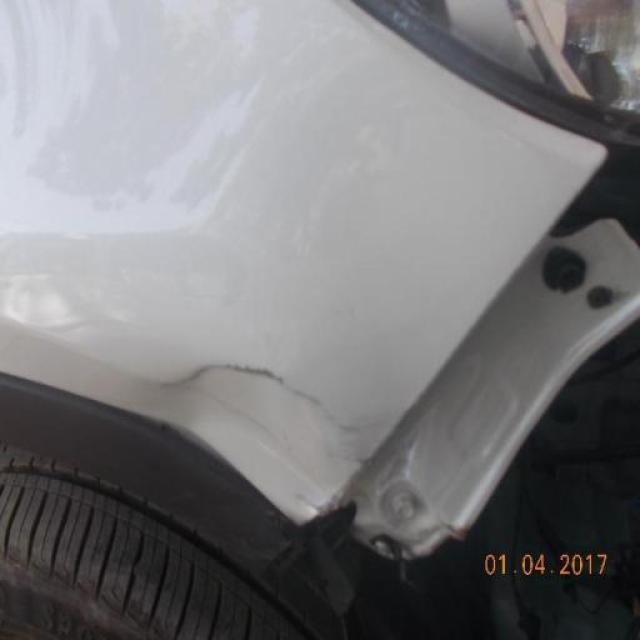dent: (154, 359, 379, 518)
scratch: (161, 361, 326, 413)
